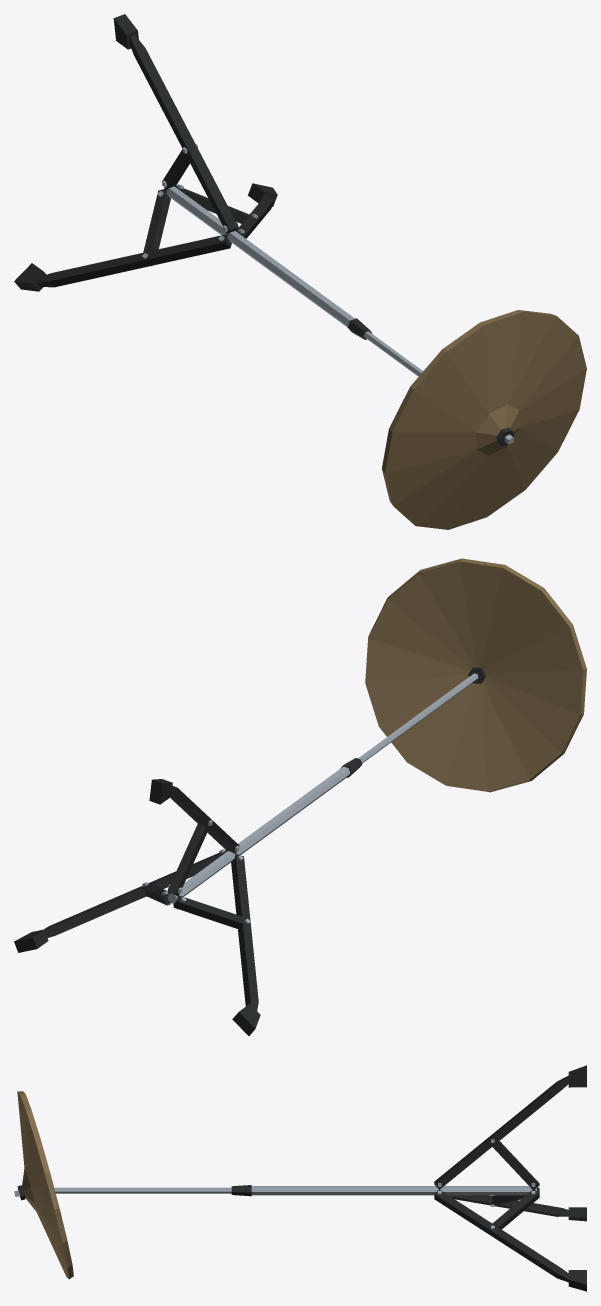
File: SM_Prop_Music_Drums_Kit_01_Seat_01_Part_01.065.obj
3 renders of one model, top to bottom at view 1: azimuth 30°, elevation 25°; view 2: azimuth 150°, elevation 25°; view 3: azimuth 270°, elevation 25°, orthographic. The views are drawn at different scales.
Visible parts, largest first — view 1: SM_Prop_Music_Drums_Kit_01_Seat_01_Part_01.065_0; view 2: SM_Prop_Music_Drums_Kit_01_Seat_01_Part_01.065_0; view 3: SM_Prop_Music_Drums_Kit_01_Seat_01_Part_01.065_0.
Boxes of the visible parts, x1,y1,x2,y2 form: SM_Prop_Music_Drums_Kit_01_Seat_01_Part_01.065_0: [14, 14, 586, 529]; SM_Prop_Music_Drums_Kit_01_Seat_01_Part_01.065_0: [14, 558, 586, 1035]; SM_Prop_Music_Drums_Kit_01_Seat_01_Part_01.065_0: [14, 1065, 586, 1291].
Size of the model in its own units: 57.17 by 54.95 by 143.
